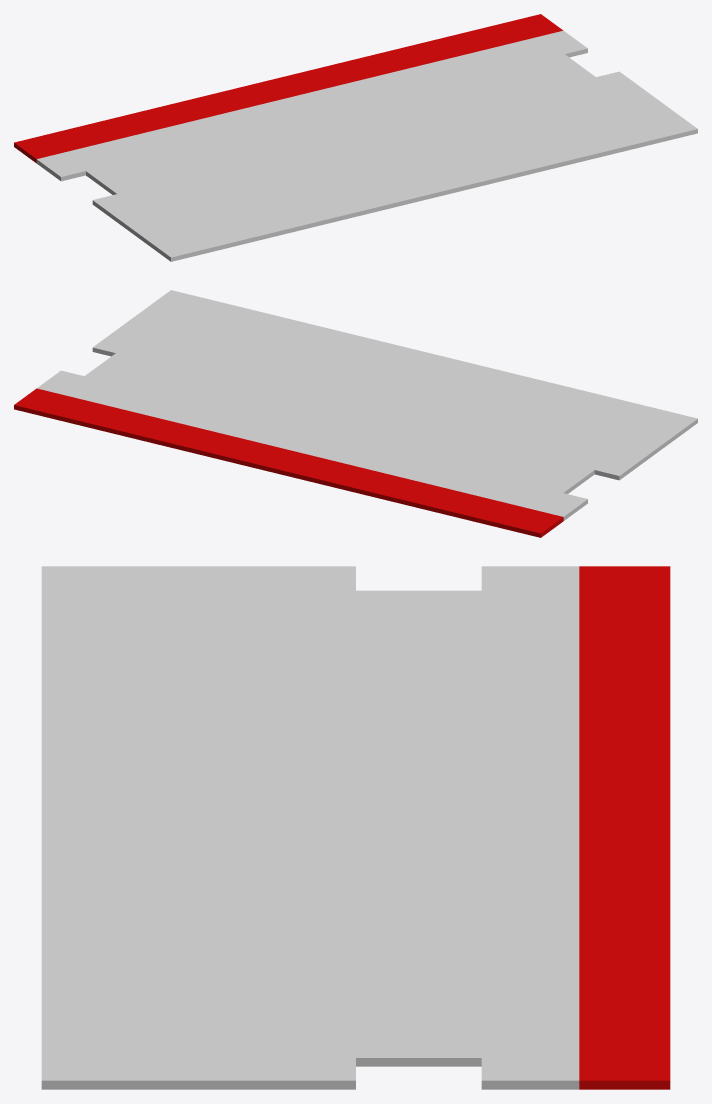
File: Plane ticket.fbx
The picture shows the model from 3 angles, top to bottom: view 1: azimuth 30°, elevation 25°; view 2: azimuth 150°, elevation 25°; view 3: azimuth 270°, elevation 25°; orthographic projection. The views are drawn at different scales.
Visible parts, largest first — view 1: Plane_Ticket; view 2: Plane_Ticket; view 3: Plane_Ticket.
Boxes of the visible parts, x1,y1,x2,y2 form: Plane_Ticket: [14, 14, 697, 261]; Plane_Ticket: [14, 290, 697, 537]; Plane_Ticket: [41, 566, 670, 1089].
Bounding box in the file's own units: 23.28 × 0.1856 × 12.02.
